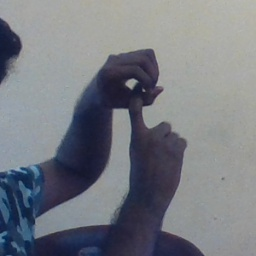Q: (79, 44, 193, 175)
